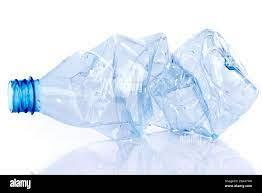BIODEGRADABLE: (6, 28, 262, 142)
